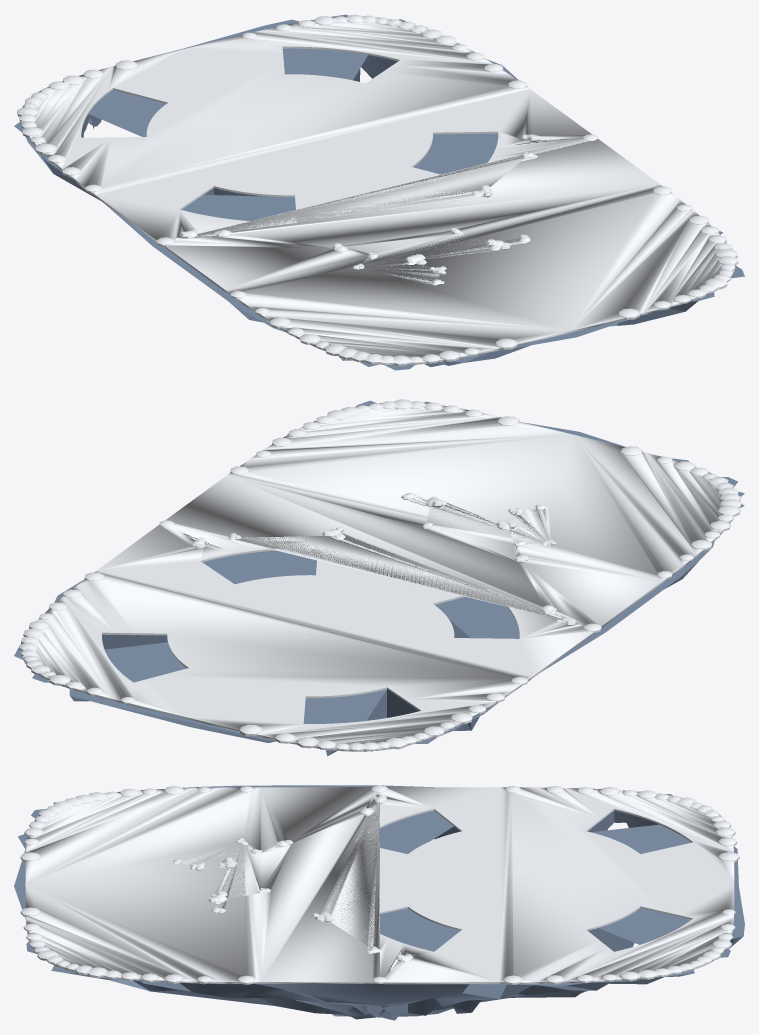
The model's file is AR_IslandPits.fbx.
3 views of the same model, one above another, from view 1: azimuth 30°, elevation 25°; view 2: azimuth 150°, elevation 25°; view 3: azimuth 270°, elevation 25° (orthographic). The views are drawn at different scales.
Visible parts, largest first — view 1: Island__Snow__F6FAFFSP, Island__Rock__7F92ACSP; view 2: Island__Snow__F6FAFFSP, Island__Rock__7F92ACSP; view 3: Island__Snow__F6FAFFSP, Island__Rock__7F92ACSP.
Boxes of the visible parts, x1,y1,x2,y2 form: Island__Snow__F6FAFFSP: (17, 14, 738, 365); Island__Rock__7F92ACSP: (14, 14, 744, 370); Island__Snow__F6FAFFSP: (19, 399, 741, 751); Island__Rock__7F92ACSP: (14, 400, 744, 756); Island__Snow__F6FAFFSP: (20, 785, 739, 984); Island__Rock__7F92ACSP: (14, 785, 744, 1020).
Bounding box in the file's own units: 231 × 73.68 × 355.
